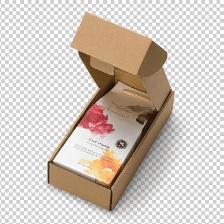carton: (48, 77, 164, 189)
